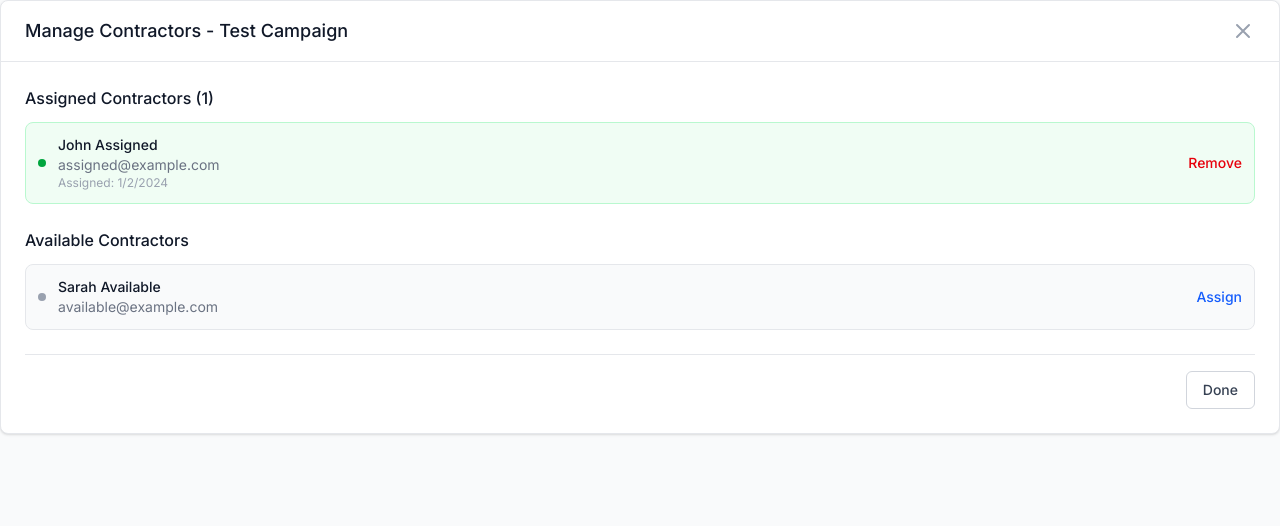
Test case: ContractorAssignment › Error Handling › displays error message when contractor removal fails
Expected: the text "John Assigned" is shown, [58,136,158,153]
Click the button "Remove".
click(1215, 163)  # box [1188,153,1242,173]
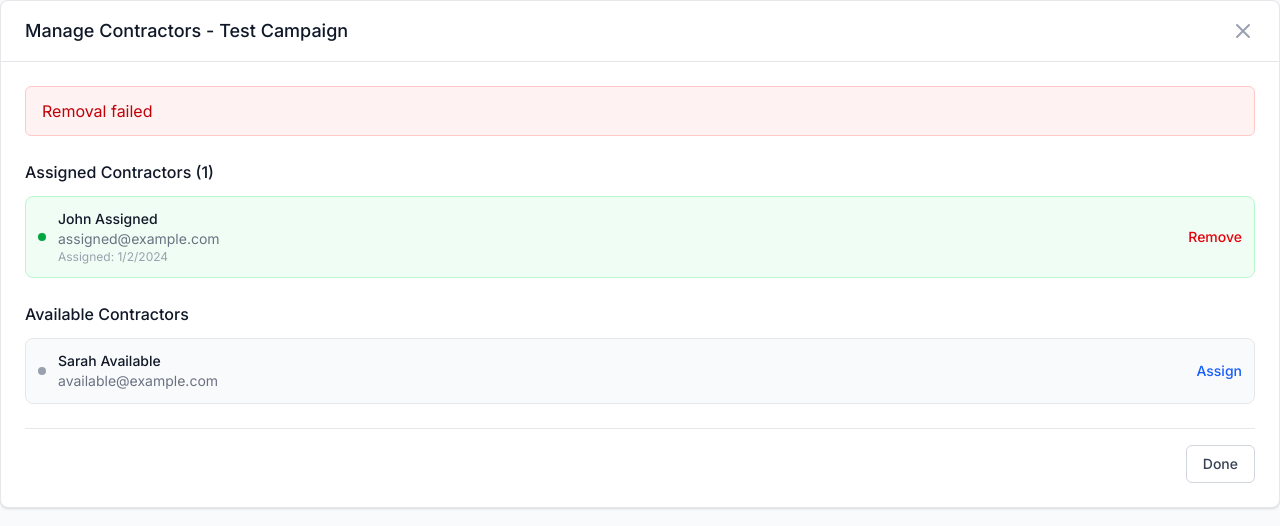
Result: the text "Removal failed" is shown at [25,86,1255,136]
